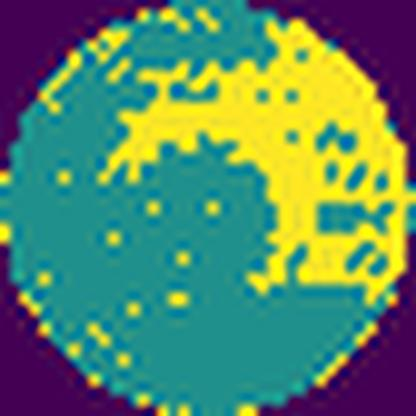Edge-Loc: (91, 0, 415, 299)
